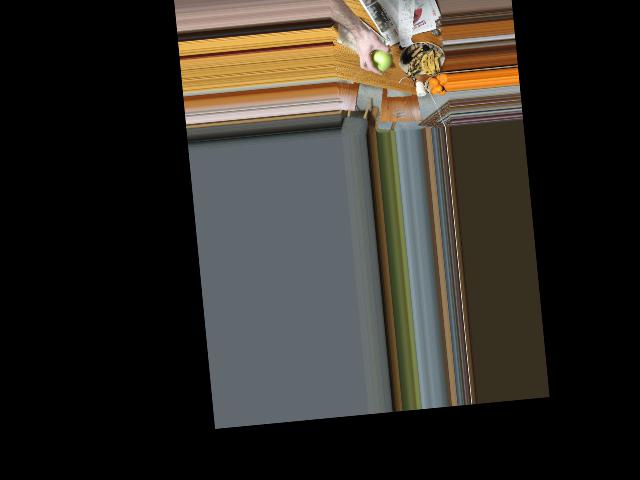apple: (368, 44, 394, 76)
